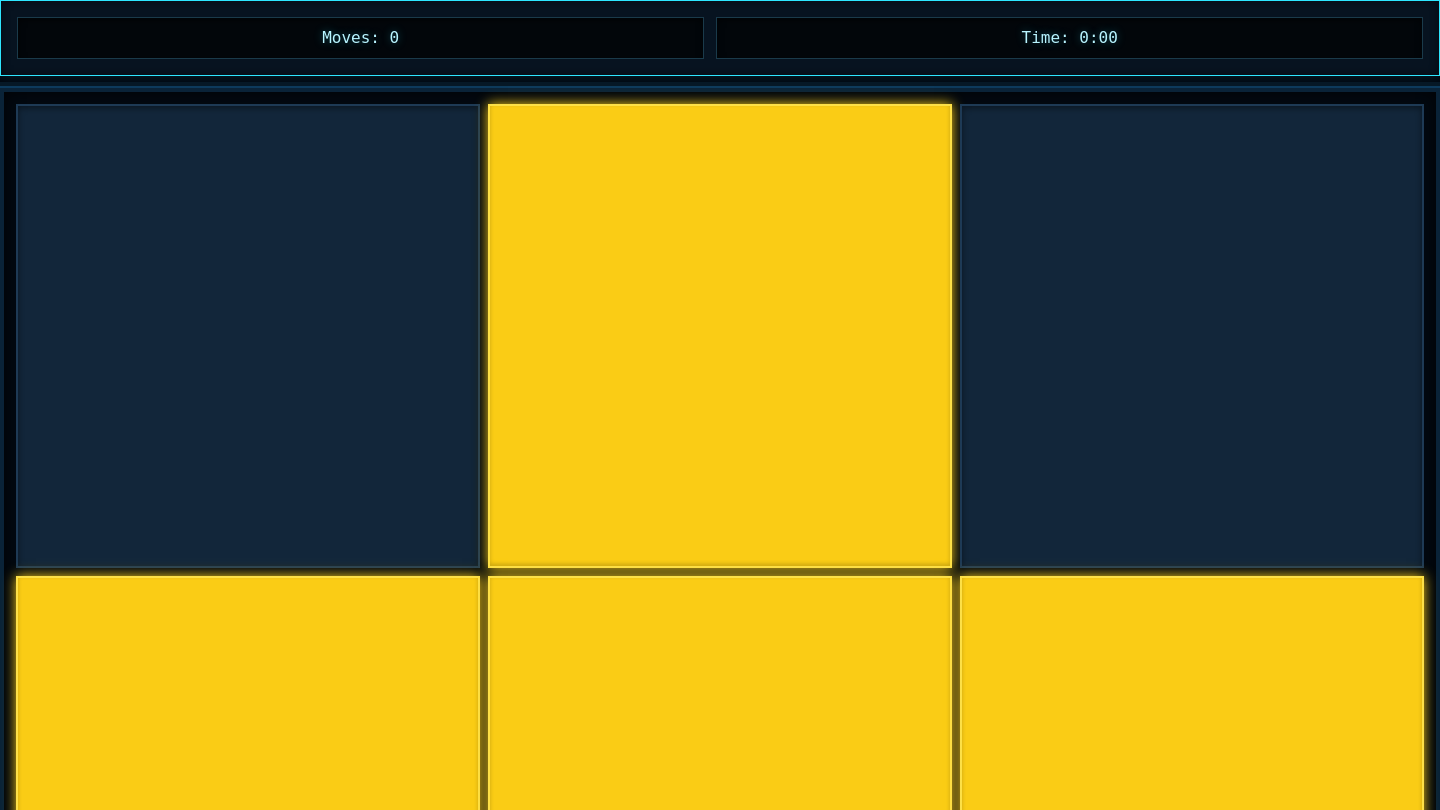
Test: Game › does not show the name form before the win-sequence delay has elapsed
Click the button named "Row 1, Column 1" at (248, 336), box [16, 104, 480, 568]
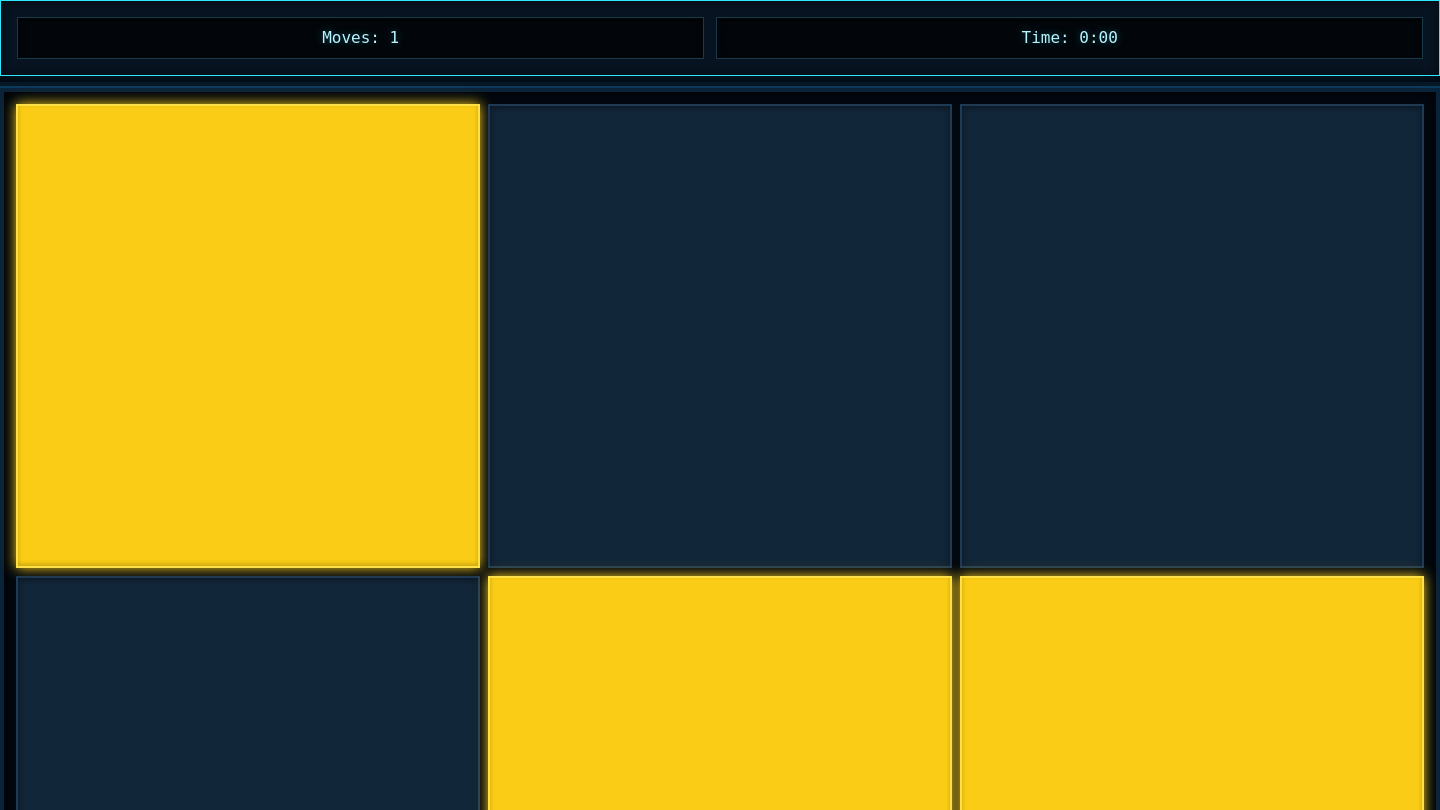
Click the button named "Row 1, Column 2" at (720, 336), box [488, 104, 952, 568]
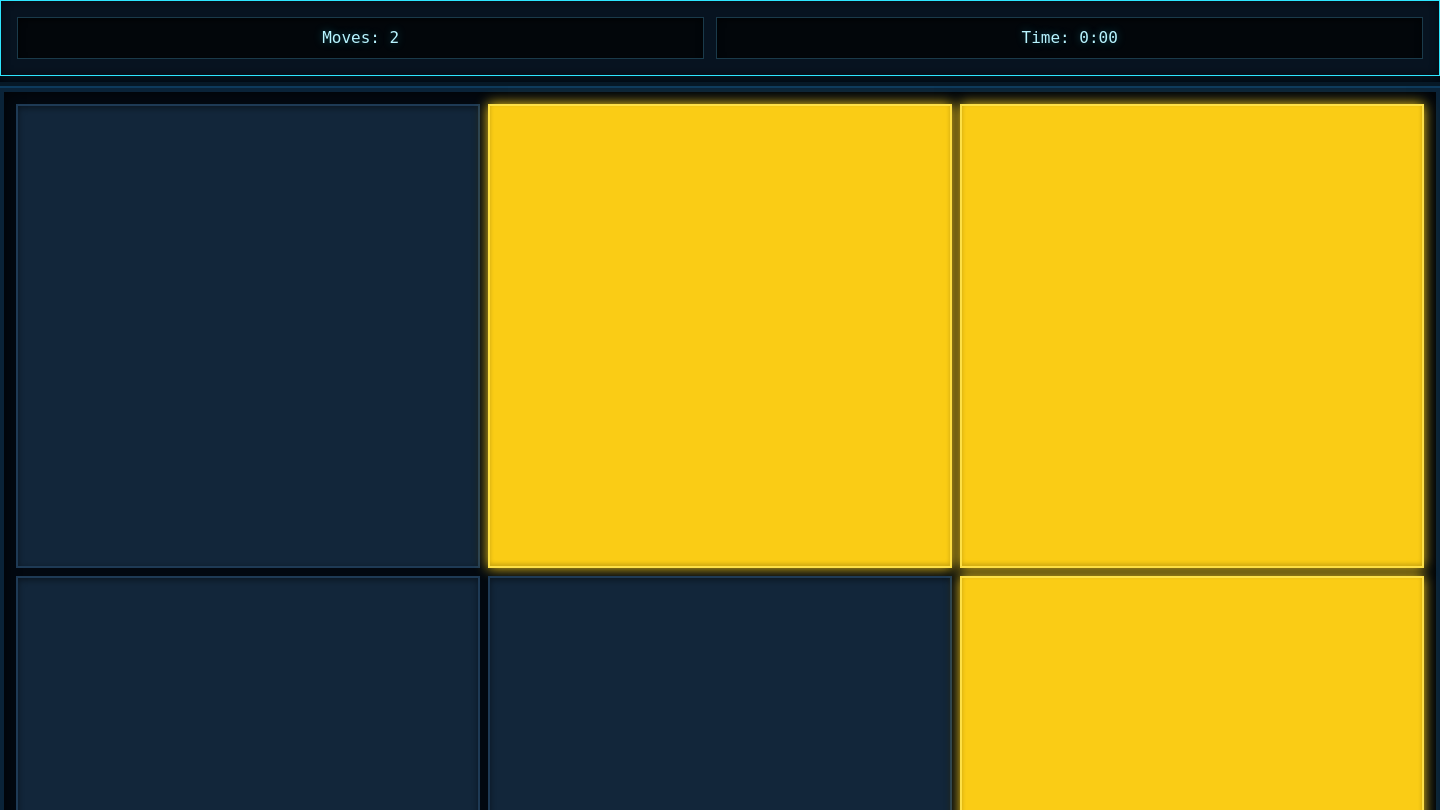
Click the button named "Row 1, Column 3" at (1192, 336), box [960, 104, 1424, 568]
Wait 999 ms
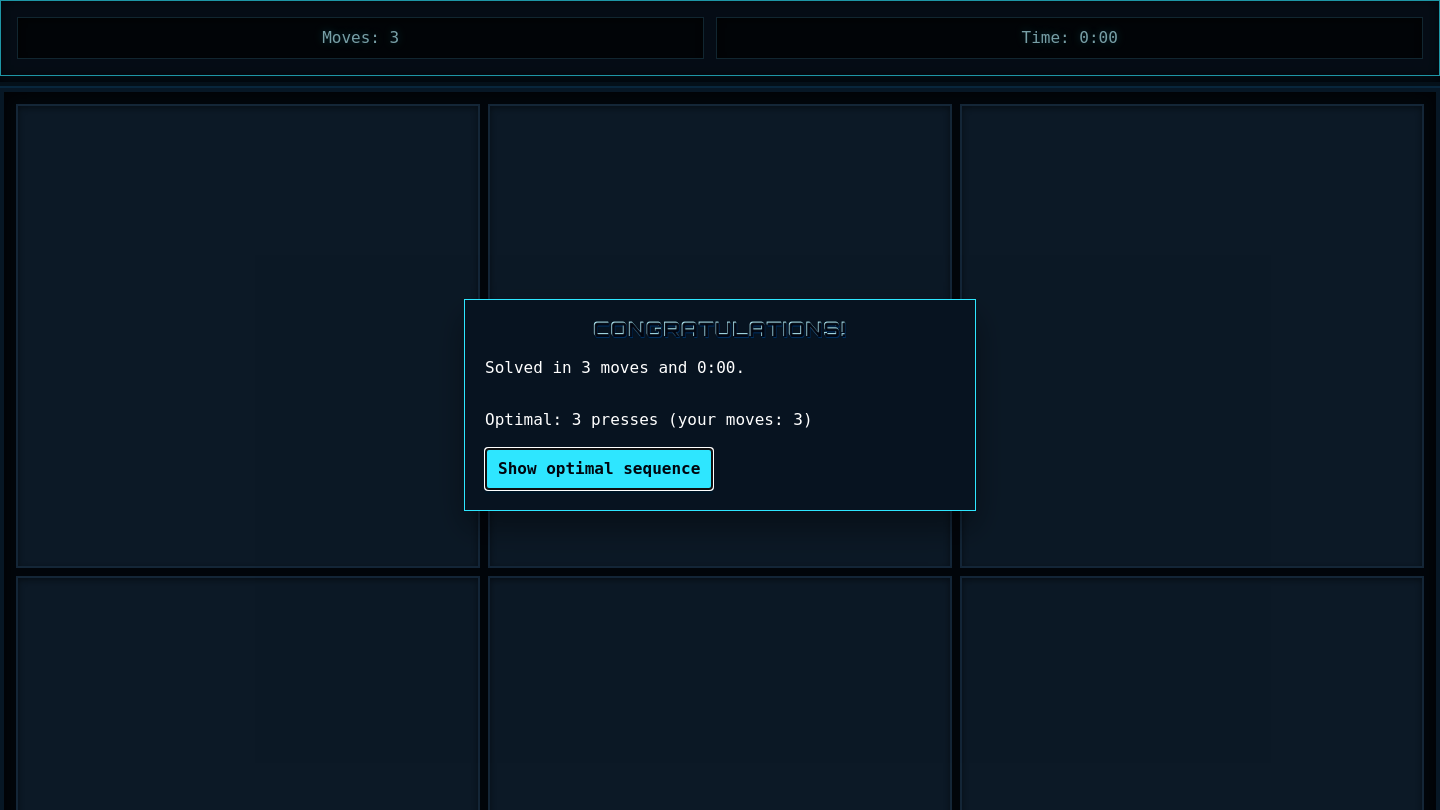
Check: the text "Solved in 3 moves and 0:00." is shown, box [485, 358, 745, 377]
